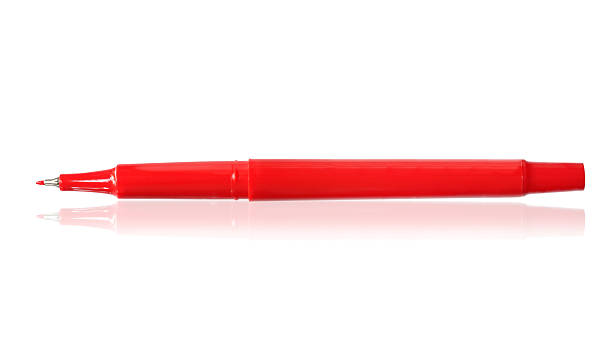pen: (29, 153, 605, 227)
